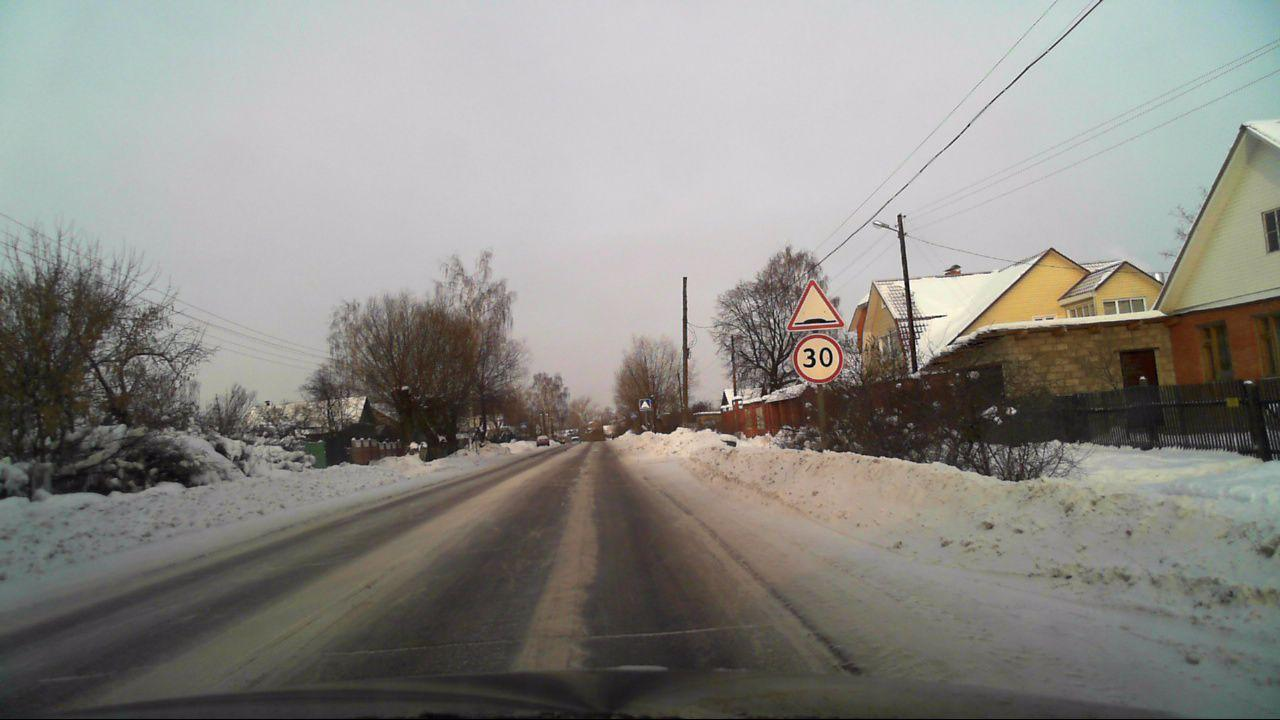1_17: (787, 280, 845, 332)
3_24: (791, 333, 845, 385)
5_20: (638, 399, 652, 411)
